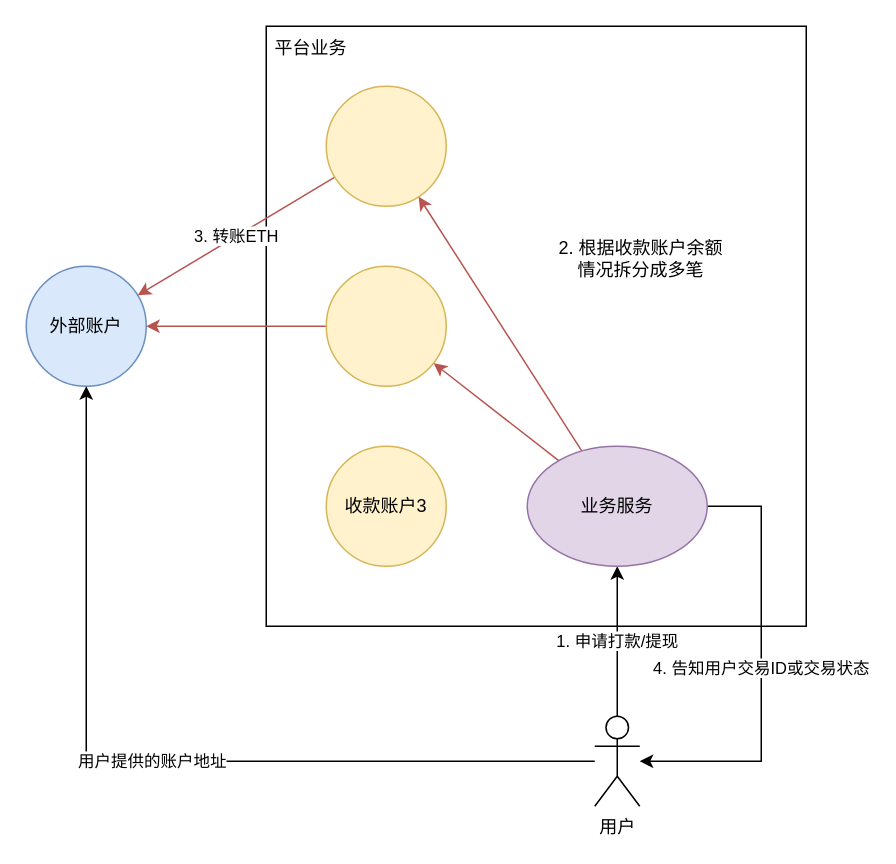
This 896x864 diagram has some shape labels left out. The shapes that lost their labels are listed below. From the top down, each one's centre as x and y in pixels, then its label:
At pixel 385 145: "收款账户1".
At pixel 385 325: "收款账户2".
